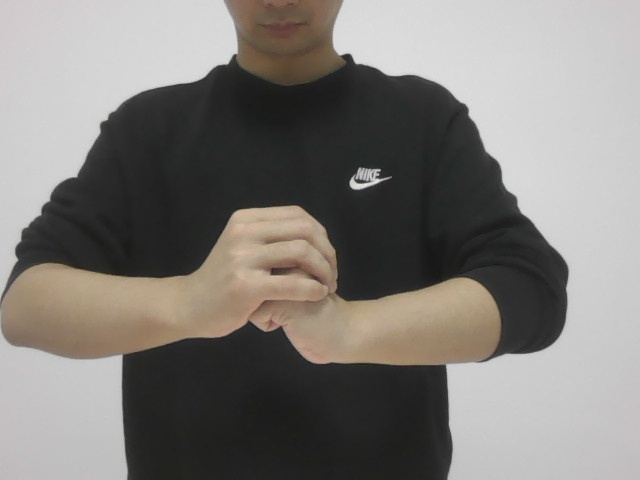wish: (190, 197, 361, 373)
